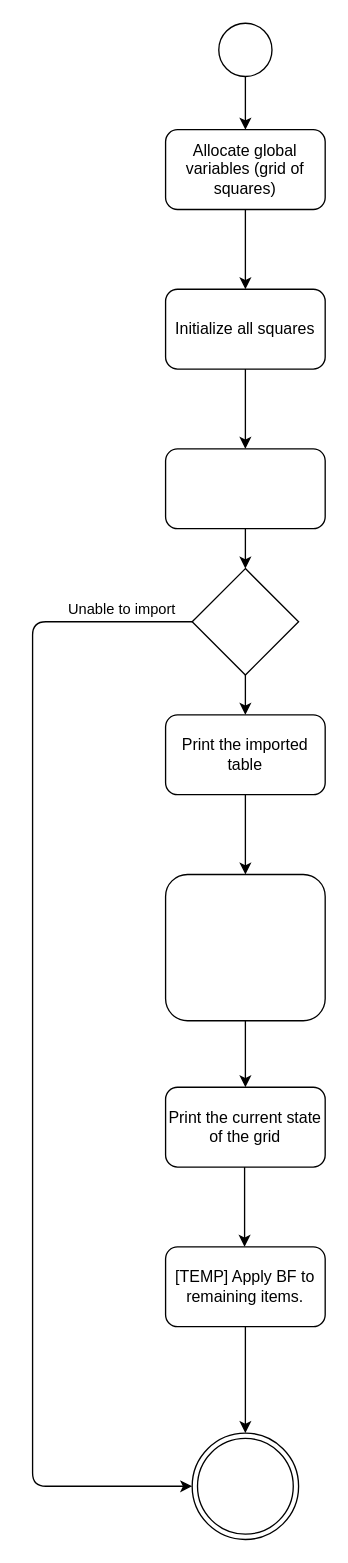
Some shapes in this 348 by 1563 pixel diagram are drawn without their labels. The shapes that lost their labels are listed below. From the top down, each one's centre as x and y in pixels, then its label:
At (x=244, y=488): "Import sudoku table".
At (x=244, y=947): "Identify possible values and assign solved squares".
